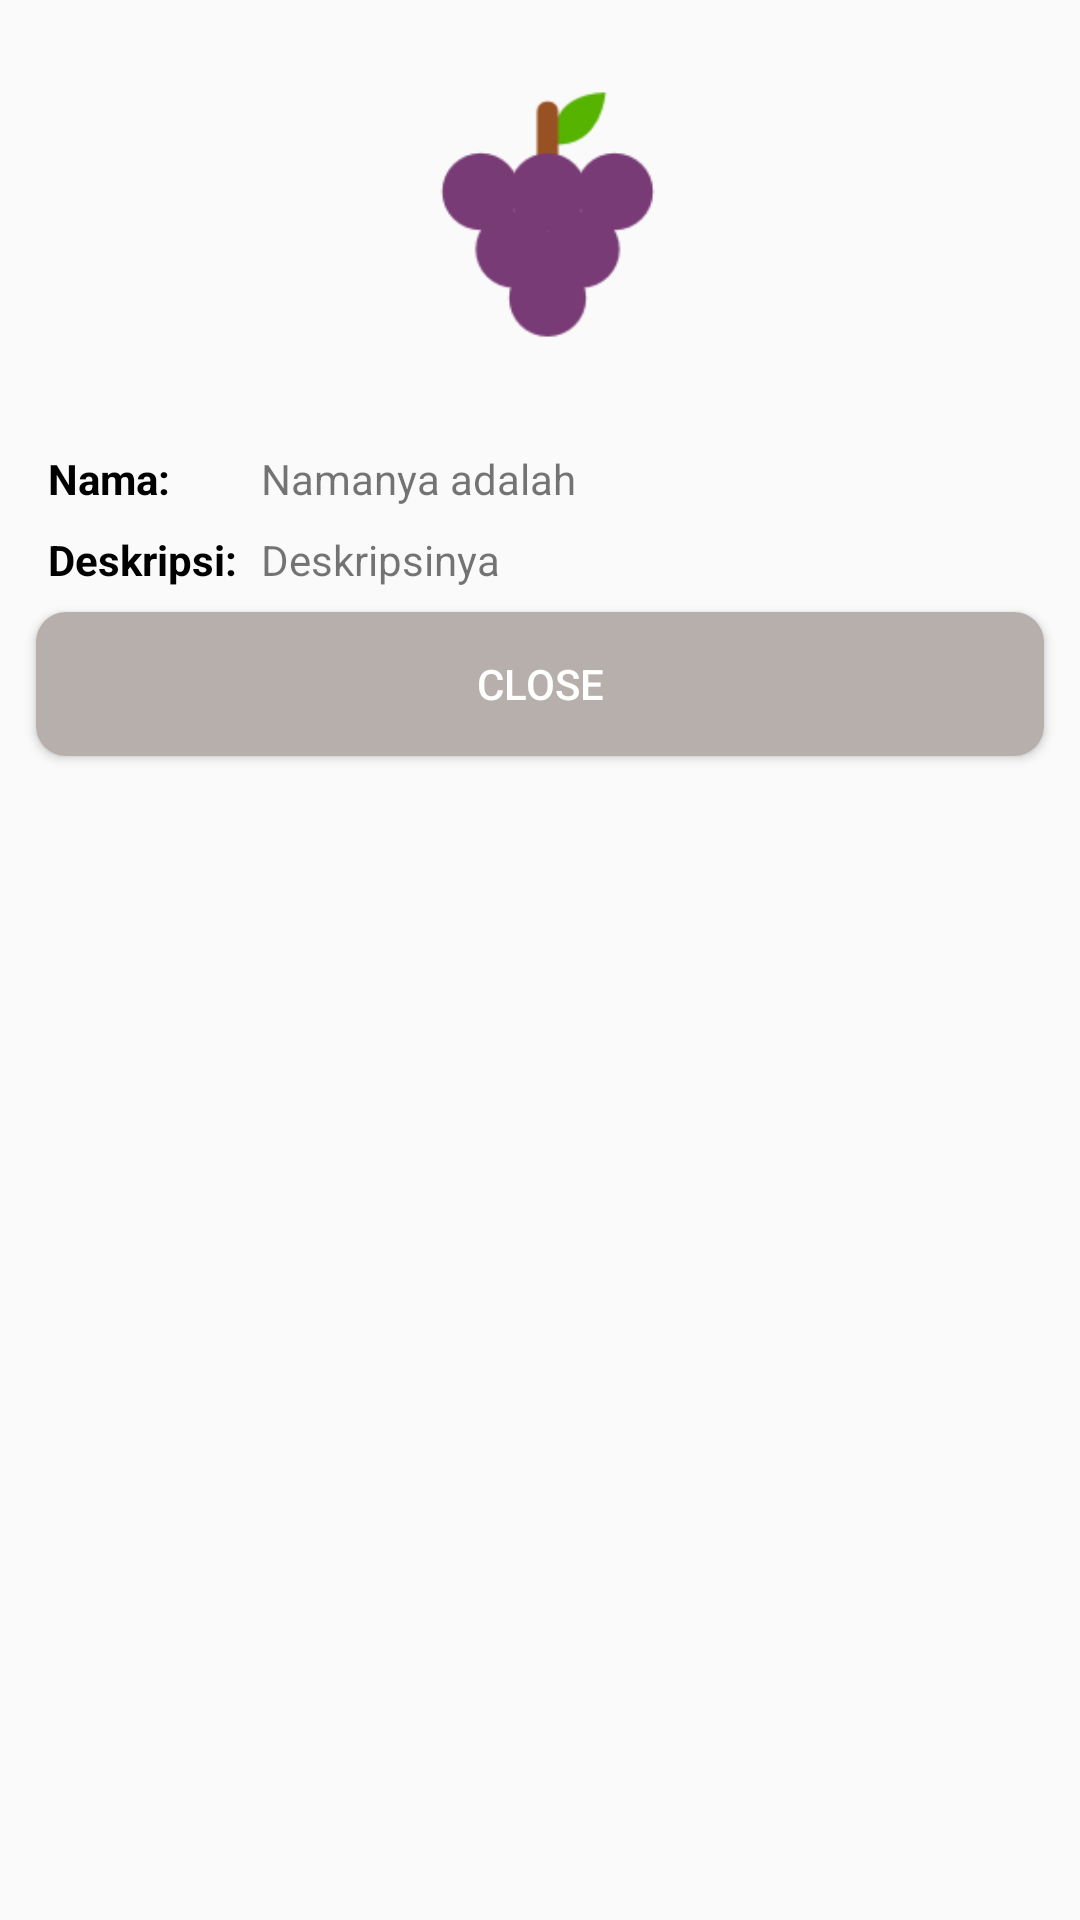

Icon bounding boxes for this 1080w x 1920h phone screenshot, format (x1, y1, x2, y2):
anggur: (441, 92, 654, 337)
